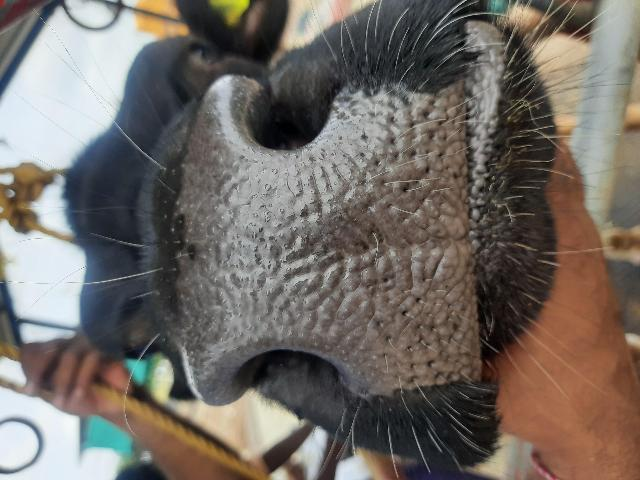Muzzle: (200, 148, 478, 354)
